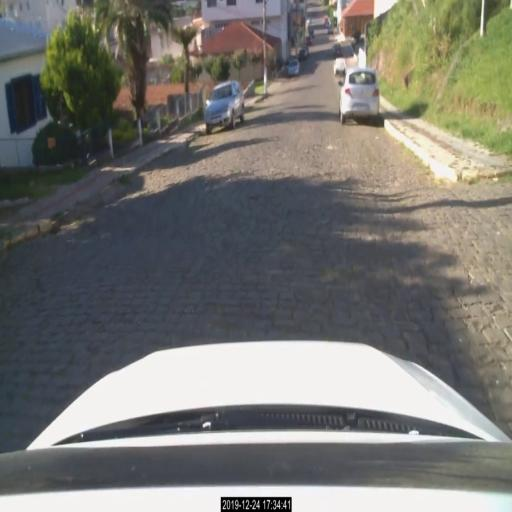Pothole: (45, 216, 63, 241)
